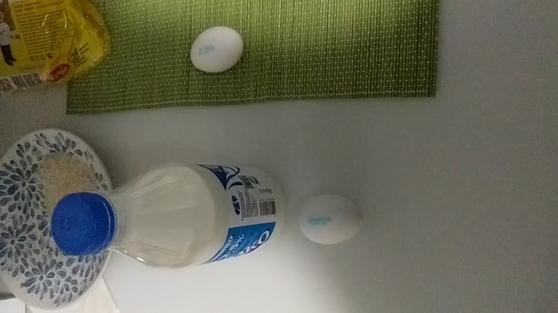egg: (295, 192, 366, 247), (182, 23, 248, 75)
milk: (40, 153, 291, 272)
